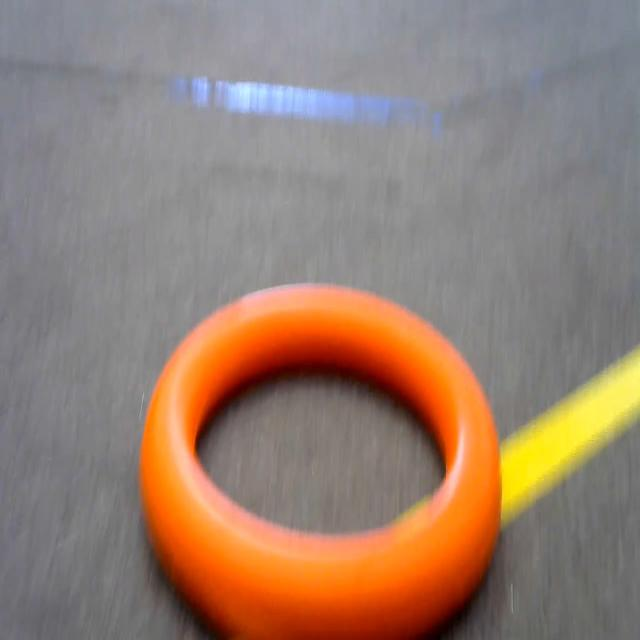note: (135, 272, 521, 640)
